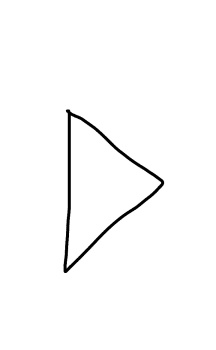Triangle: (62, 106, 165, 276)
